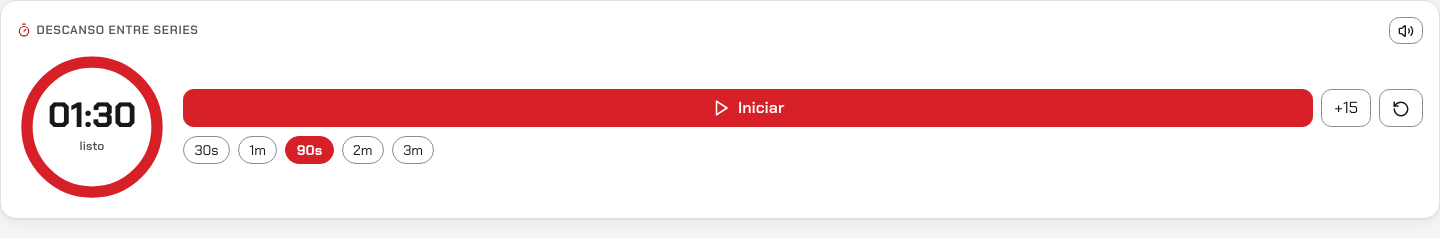
Test: RestTimer: pausa y +15 › pausa, muestra Seguir tras +15 y retoma desde el tiempo sumado
The width and height of the screenshot is (1440, 238).
Step 1. Click the button "Iniciar" → x=748, y=108, box [183,89,1313,127]
Wait 1500 ms
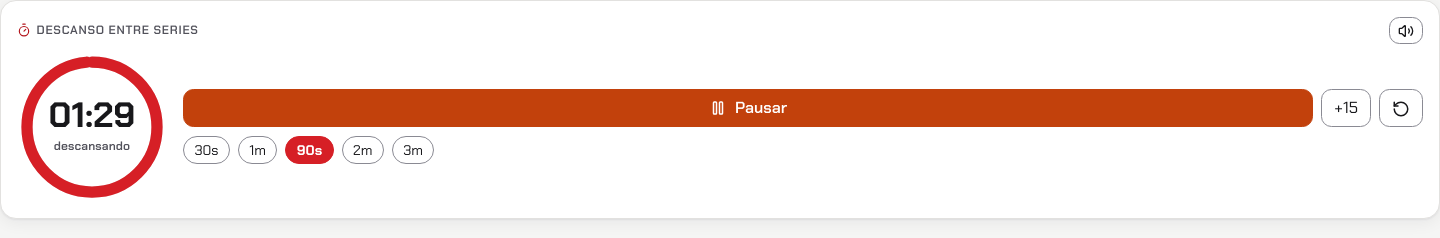
Step 2. Click the button "Pausar" → x=748, y=108, box [183,89,1313,127]
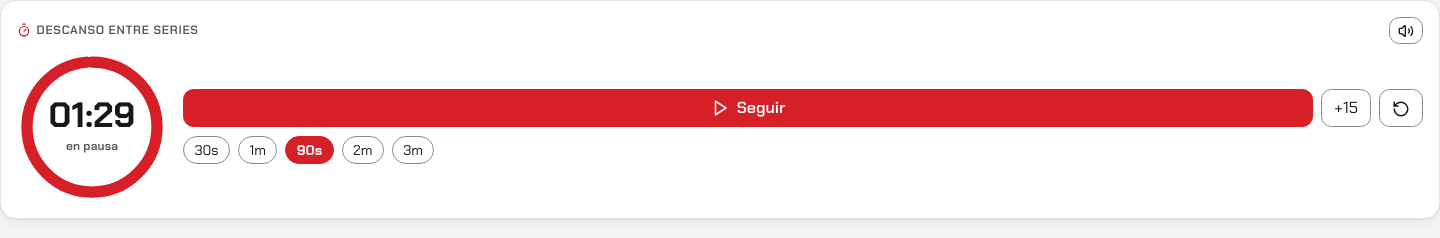
Check: the text with class "timer-caption" reads "en pausa", box [66,138,118,154]
Step 3. Click the button named "+15 segundos" → x=1346, y=108, box [1321,89,1371,127]
Wait 500 ms
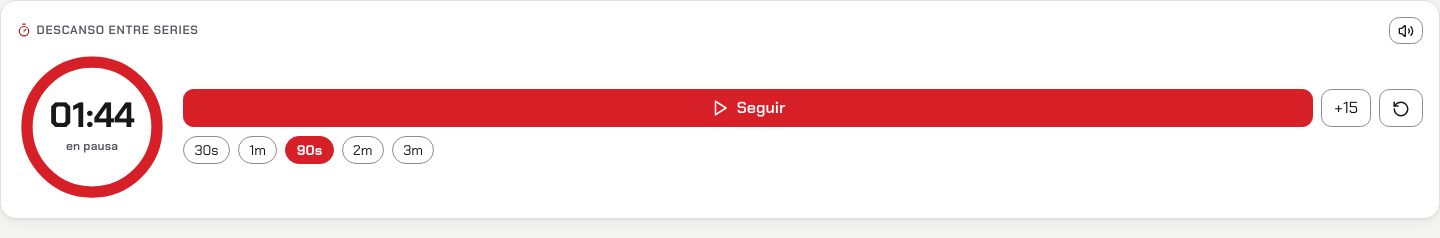
Check: the button "Iniciar" is not shown
Check: the button "Seguir" is shown
Step 4. Click the button "Seguir" → x=748, y=108, box [183,89,1313,127]
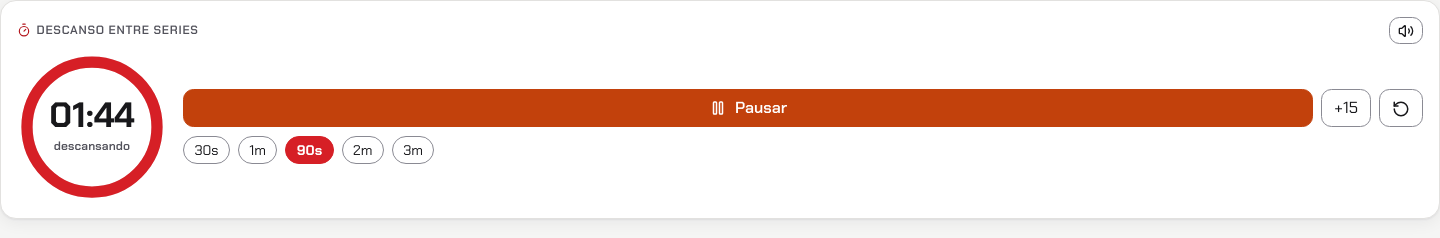
Check: the text with class "timer-caption" reads "descansando", box [54,138,130,154]
